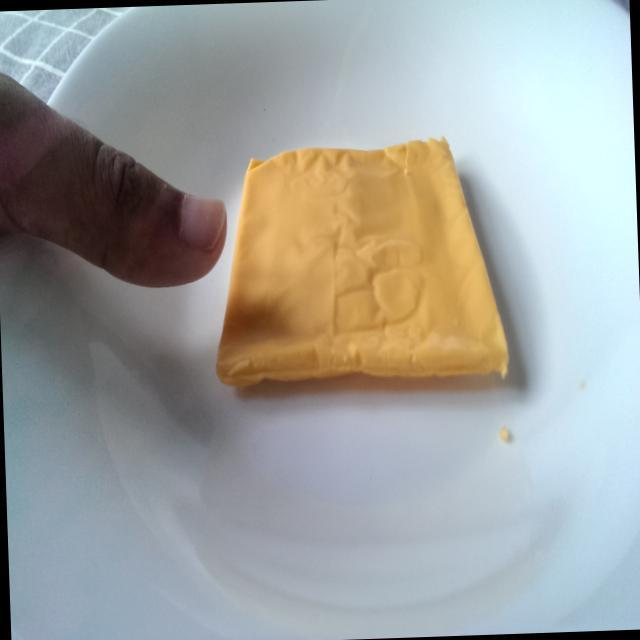Cheese: (208, 124, 516, 418)
Finger: (77, 104, 233, 295)
